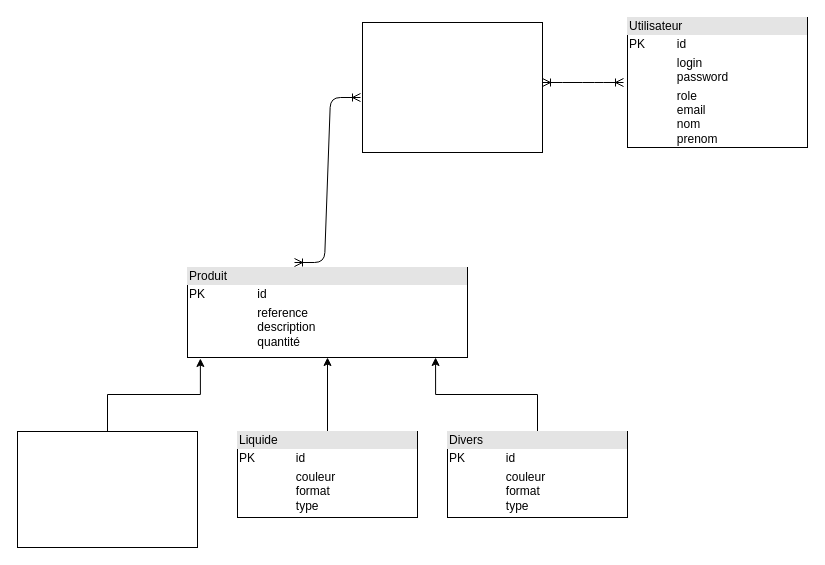
Some shapes in this 825 by 565 pixel diagram are drawn without their labels. The shapes that lost their labels are listed below. From the top down, each one's box as (x1, y1, x2, y2) in pixels, then its label:
(362, 22, 542, 152): Historique PK id utilisateur_id article_id date action quantite
(16, 430, 198, 548): Support PK id couleur format grammage materiel type
